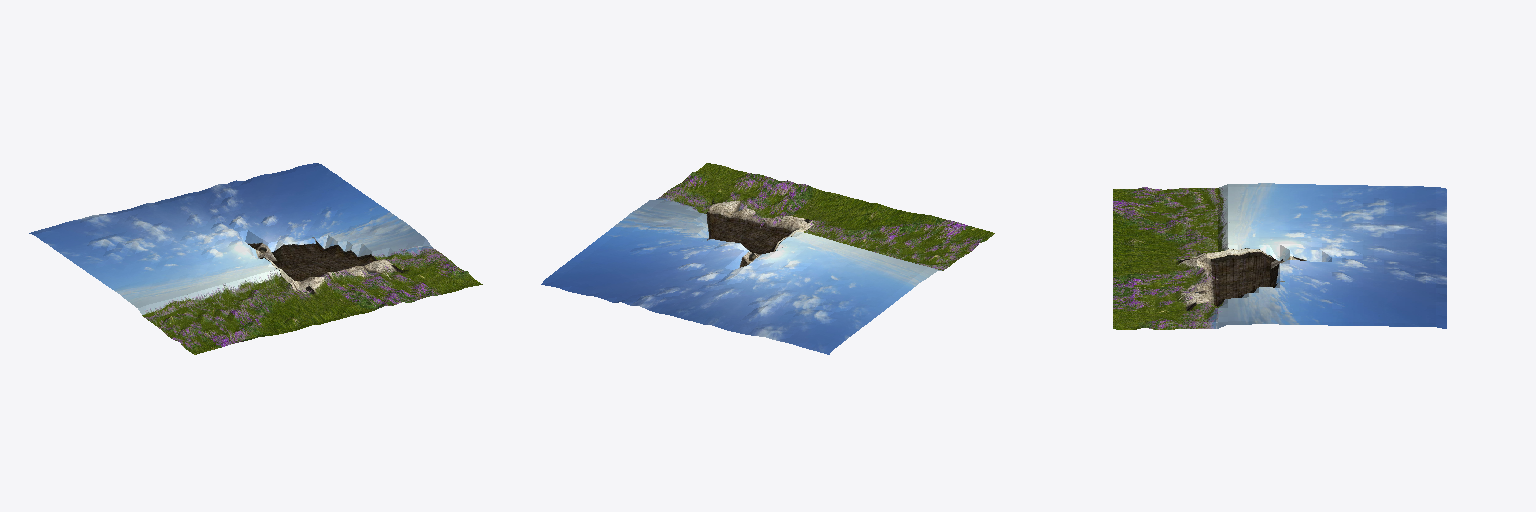
The picture shows the model from 3 angles: view 1: azimuth 30°, elevation 25°; view 2: azimuth 150°, elevation 25°; view 3: azimuth 270°, elevation 25°; orthographic projection.
Visible parts, largest first — view 1: Plane; view 2: Plane; view 3: Plane.
Boxes of the visible parts, <box> form: Plane: <box>29,163,482,354</box>; Plane: <box>541,163,994,354</box>; Plane: <box>1113,183,1446,329</box>.
Bounding box in the file's own units: 1108 × 53.12 × 1108.
1 materials, 1 textured.